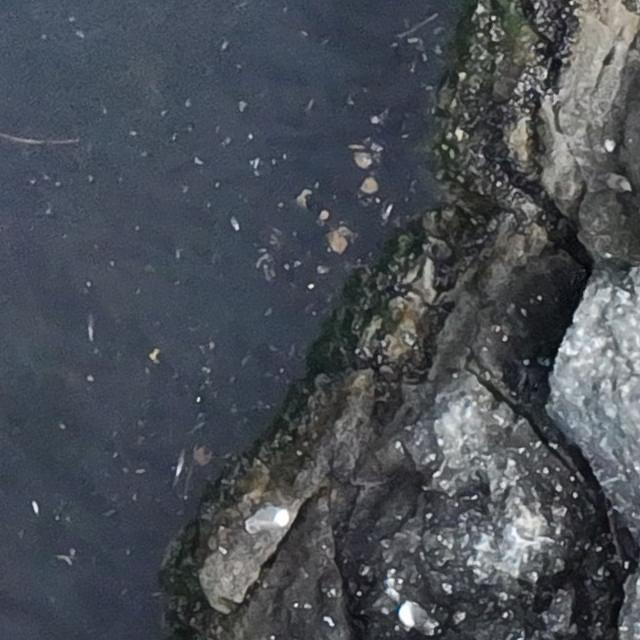umineko: (399, 600, 439, 632), (248, 506, 288, 528)
